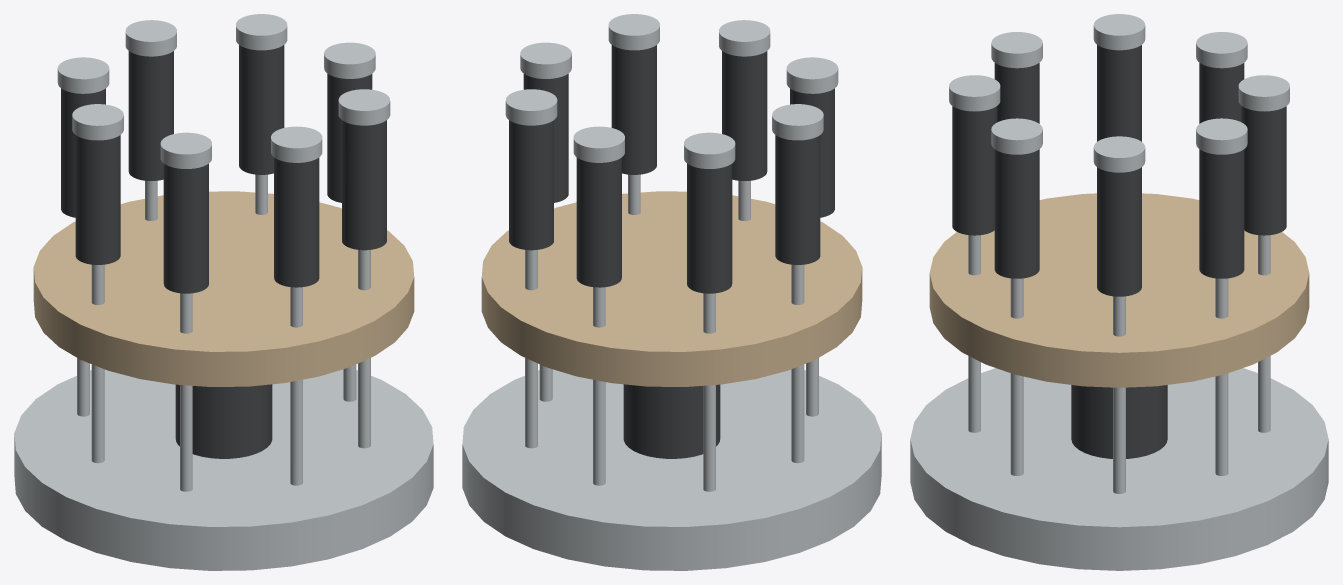
Rendered from camera-repair-and-darkroom-laboratory-precision-driver-545b0b7f__31783.glb.
The picture shows the model from 3 angles, left to right: view 1: azimuth 30°, elevation 25°; view 2: azimuth 150°, elevation 25°; view 3: azimuth 270°, elevation 25°; orthographic projection.
Visible parts, largest first — view 1: precision-driver-carousel; view 2: precision-driver-carousel; view 3: precision-driver-carousel.
Boxes of the visible parts, x1,y1,x2,y2 form: precision-driver-carousel: (14, 14, 433, 570); precision-driver-carousel: (462, 14, 881, 570); precision-driver-carousel: (910, 14, 1328, 570).
Bounding box in the file's own units: 0.13 × 0.136 × 0.13.
